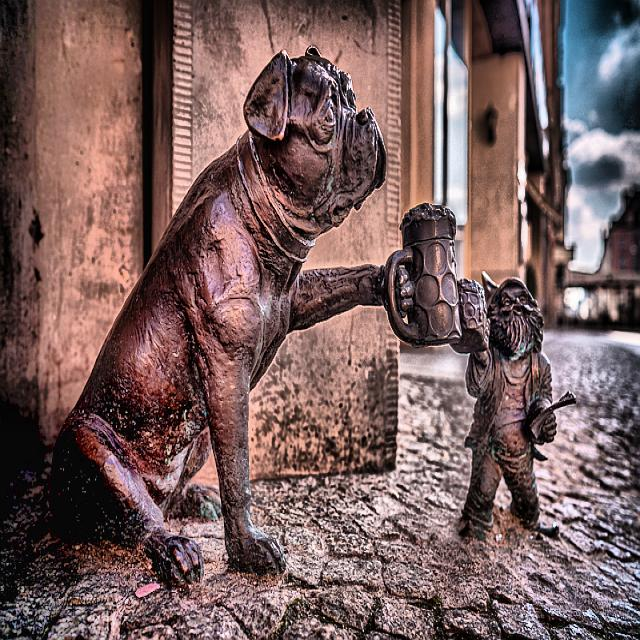Piwozlopek_ i_Piesel_Piwosz: (51, 49, 575, 581)
